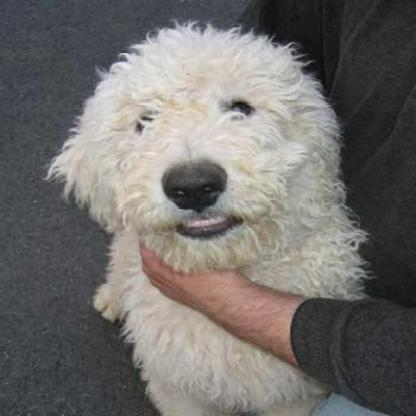komondor: (48, 19, 364, 414)
